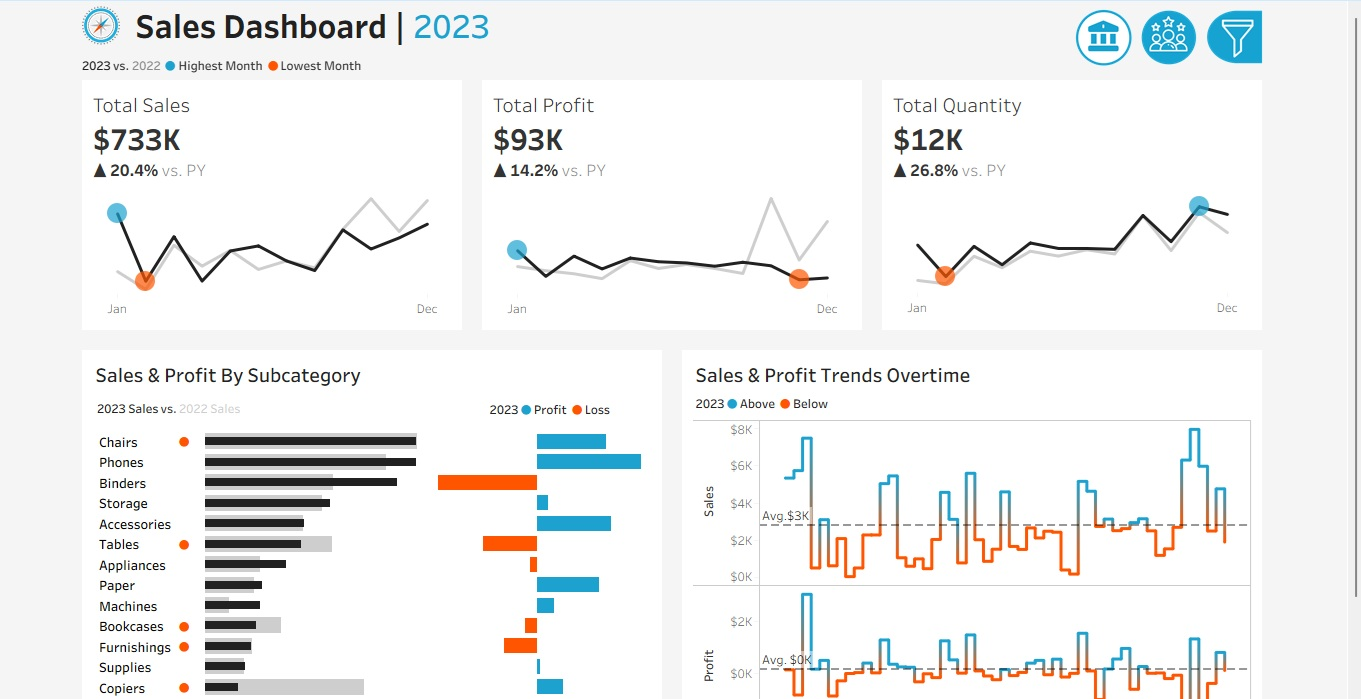

The dashboard page shown, as its layout file describes it:
{"tool":"tableau","page":{"name":"Sales Dashboard","canvas":[1200,800],"ordinal":1},"visuals":[{"type":"image","param":"Image/Icon - Logo.png","box":[0,0,57,48]},{"type":"text","box":[57,0,822,48]},{"type":"dashboard-object","box":[999,1,65,71]},{"type":"dashboard-object","box":[1064,1,65,71]},{"type":"dashboard-object","box":[1129,1,65,71]},{"type":"blank","box":[1013,10,174,81]},{"type":"worksheet","title":"Legend KPI","mark":"Automatic","box":[0,48,1200,31]},{"type":"worksheet","title":"KPI Sales","mark":"Automatic","rows":["Calculation_926615651940585476"],"cols":["Order Date"],"box":[0,79,400,260]},{"type":"worksheet","title":"KPI Profit","mark":"Automatic","rows":["Min/Max Sales (copy)_1470425307444490241"],"cols":["Order Date"],"box":[400,79,400,260]},{"type":"worksheet","title":"KPI Quantity","mark":"Automatic","rows":["Calculation_199565788496773123"],"cols":["Order Date"],"box":[800,79,400,260]},{"type":"text","box":[1013,91,174,34]},{"type":"parameter","param":"[Parameters].[Parameter 1]","box":[1013,125,174,52]},{"type":"blank","box":[1013,177,174,33]},{"type":"text","box":[1013,210,174,29]},{"type":"filter","title":"KPI Sales","param":"[federated.0682jsb1p0mr5k1dj1u5s1febkt5].[none:Category:nk]","box":[1013,239,174,52]},{"type":"filter","title":"KPI Sales","param":"[federated.0682jsb1p0mr5k1dj1u5s1febkt5].[none:Sub-Category:nk]","box":[1013,291,174,52]},{"type":"text","box":[1013,343,174,29]},{"type":"text","box":[17,356,566,34]},{"type":"text","box":[617,356,566,34]},{"type":"filter","title":"KPI Sales","param":"[federated.0682jsb1p0mr5k1dj1u5s1febkt5].[none:Region:nk]","box":[1013,372,174,52]},{"type":"worksheet","title":"Legend Subcategory","mark":"Automatic","box":[17,390,394,36]},{"type":"text","box":[411,390,172,36]},{"type":"text","box":[617,390,566,25]},{"type":"worksheet","title":"Weekly Trends","mark":"Automatic","rows":["Calculation_926615651924381696","Calculation_1016124694901821440"],"cols":["Order Date"],"box":[617,415,566,368]},{"type":"filter","title":"KPI Sales","param":"[federated.0682jsb1p0mr5k1dj1u5s1febkt5].[none:State:nk]","box":[1013,424,174,52]},{"type":"worksheet","title":"Subcategory Comparison","mark":"Bar","rows":["Sub-Category","Calculation_1485343482274328576"],"cols":["CY Sales (copy)_926615651924766721","Calculation_926615651924381696","Calculation_1016124694901821440"],"box":[17,426,566,357]},{"type":"filter","title":"KPI Sales","param":"[federated.0682jsb1p0mr5k1dj1u5s1febkt5].[none:City:nk]","box":[1013,476,174,52]}]}

Visuals, with their boxes on the page's 1200x800 design canvas (x1, y1, x2, y2). These are canvas units, not pixel positions in the 1361x699 screenshot, which may show the page scaled, cropped or inside an application window:
image: [0,0,57,48]
text: [57,0,879,48]
dashboard-object: [999,1,1064,72]
dashboard-object: [1064,1,1129,72]
dashboard-object: [1129,1,1194,72]
blank: [1013,10,1187,91]
"Legend KPI" worksheet: [0,48,1200,79]
"KPI Sales" worksheet: [0,79,400,339]
"KPI Profit" worksheet: [400,79,800,339]
"KPI Quantity" worksheet: [800,79,1200,339]
text: [1013,91,1187,125]
parameter: [1013,125,1187,177]
blank: [1013,177,1187,210]
text: [1013,210,1187,239]
"KPI Sales" filter: [1013,239,1187,291]
"KPI Sales" filter: [1013,291,1187,343]
text: [1013,343,1187,372]
text: [17,356,583,390]
text: [617,356,1183,390]
"KPI Sales" filter: [1013,372,1187,424]
"Legend Subcategory" worksheet: [17,390,411,426]
text: [411,390,583,426]
text: [617,390,1183,415]
"Weekly Trends" worksheet: [617,415,1183,783]
"KPI Sales" filter: [1013,424,1187,476]
"Subcategory Comparison" worksheet (Bar marks): [17,426,583,783]
"KPI Sales" filter: [1013,476,1187,528]
